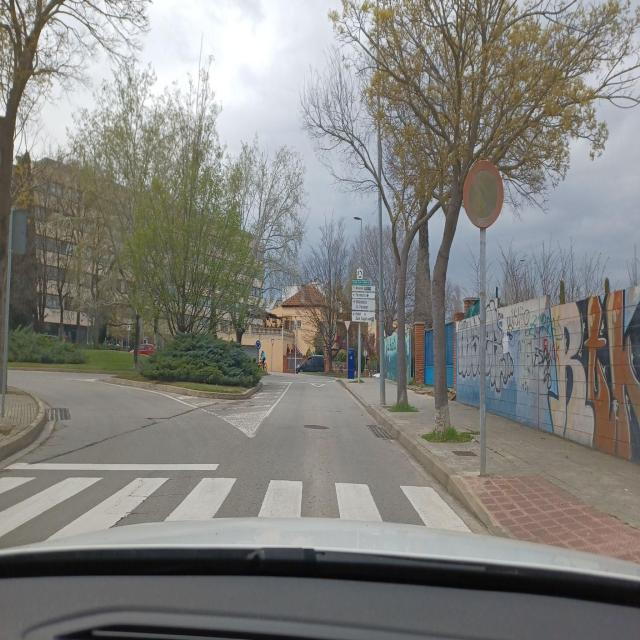forb_stopping: (463, 159, 504, 229)
